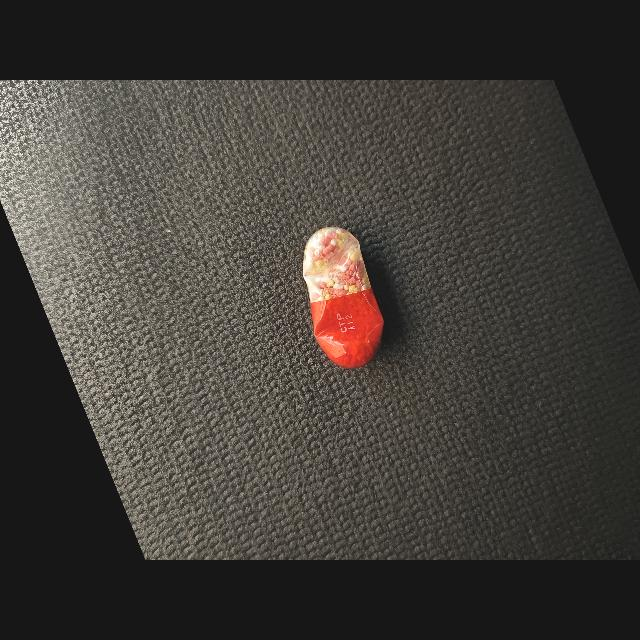Defective Capsule: (302, 226, 384, 368)
